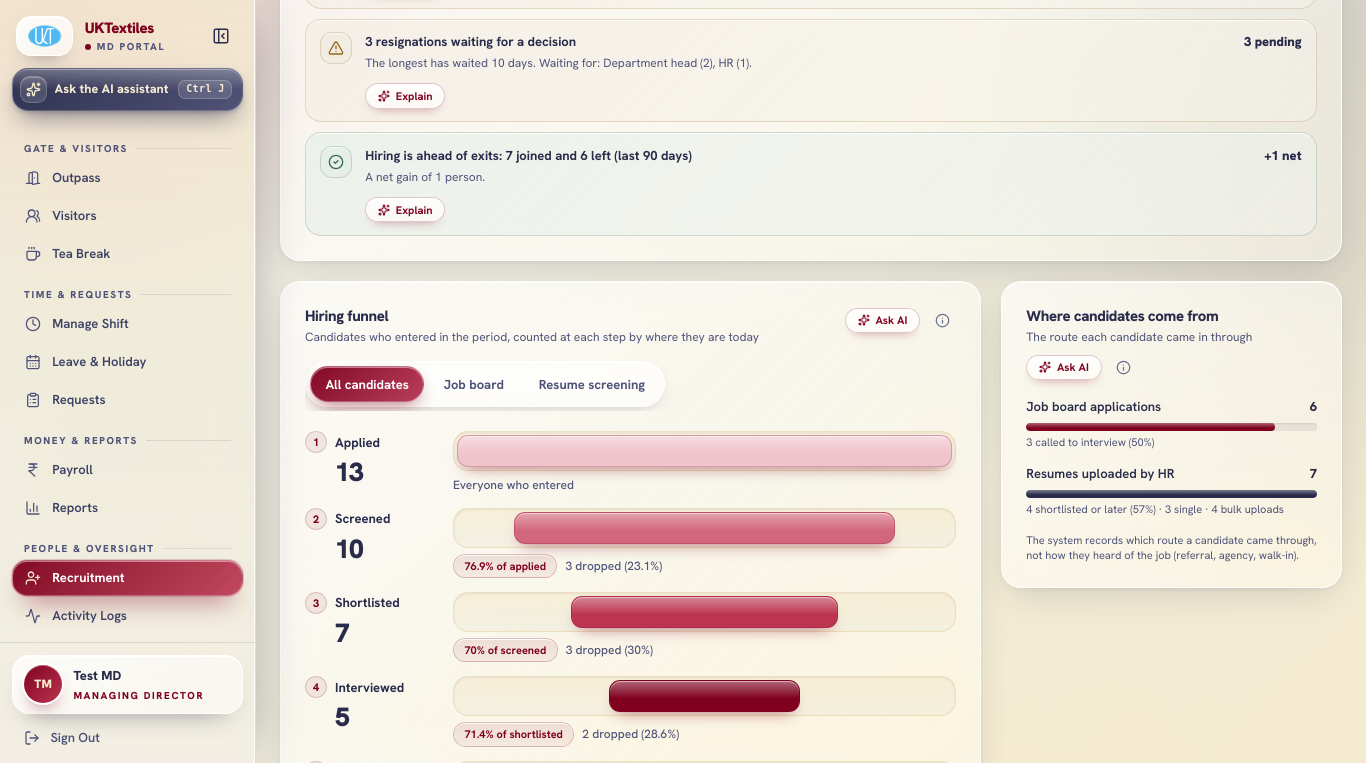
Test case: the Recruitment page › switches the funnel to one pipeline and says what that pipeline cannot answer
(page scrolled)
Click the tab "Job board". click: [474, 384]
box: [428,366,519,402]
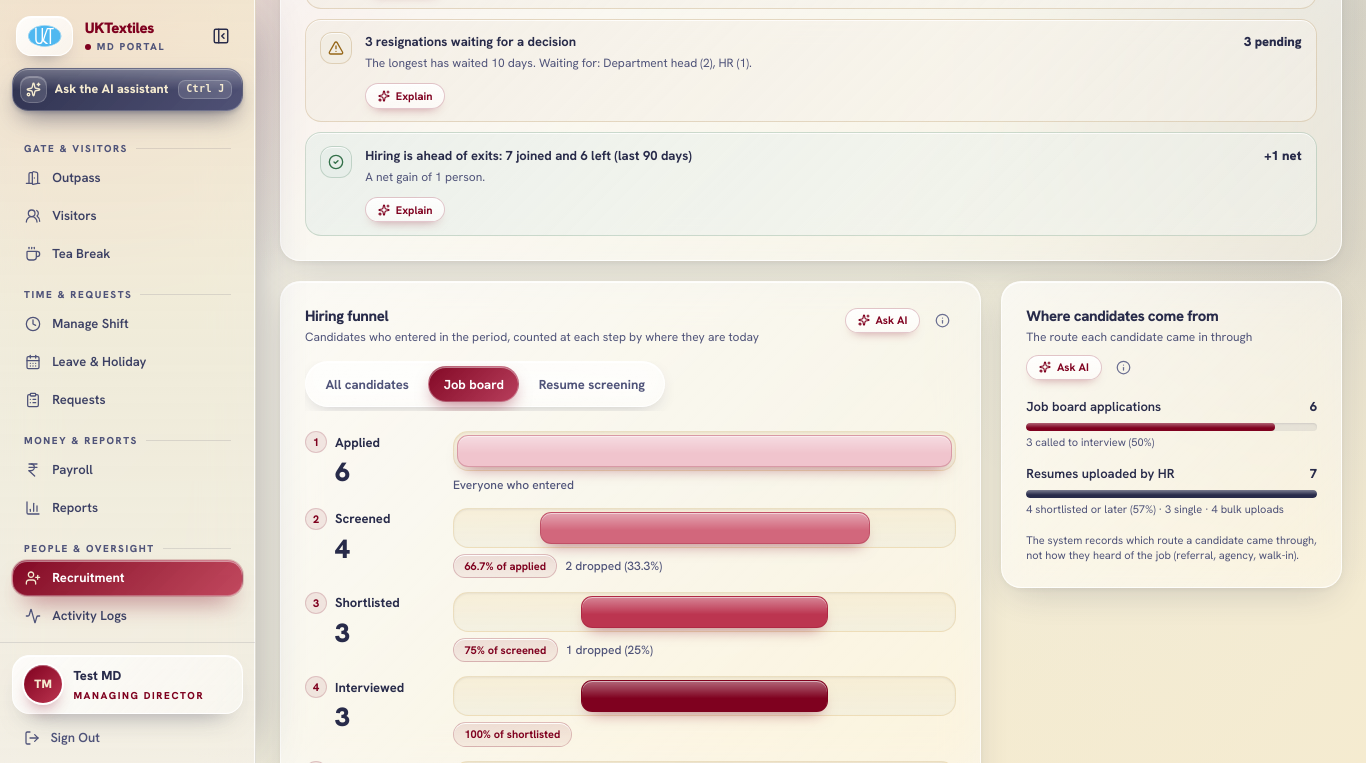
Click the tab "Resume screening". click: [592, 384]
box: [523,366,660,402]
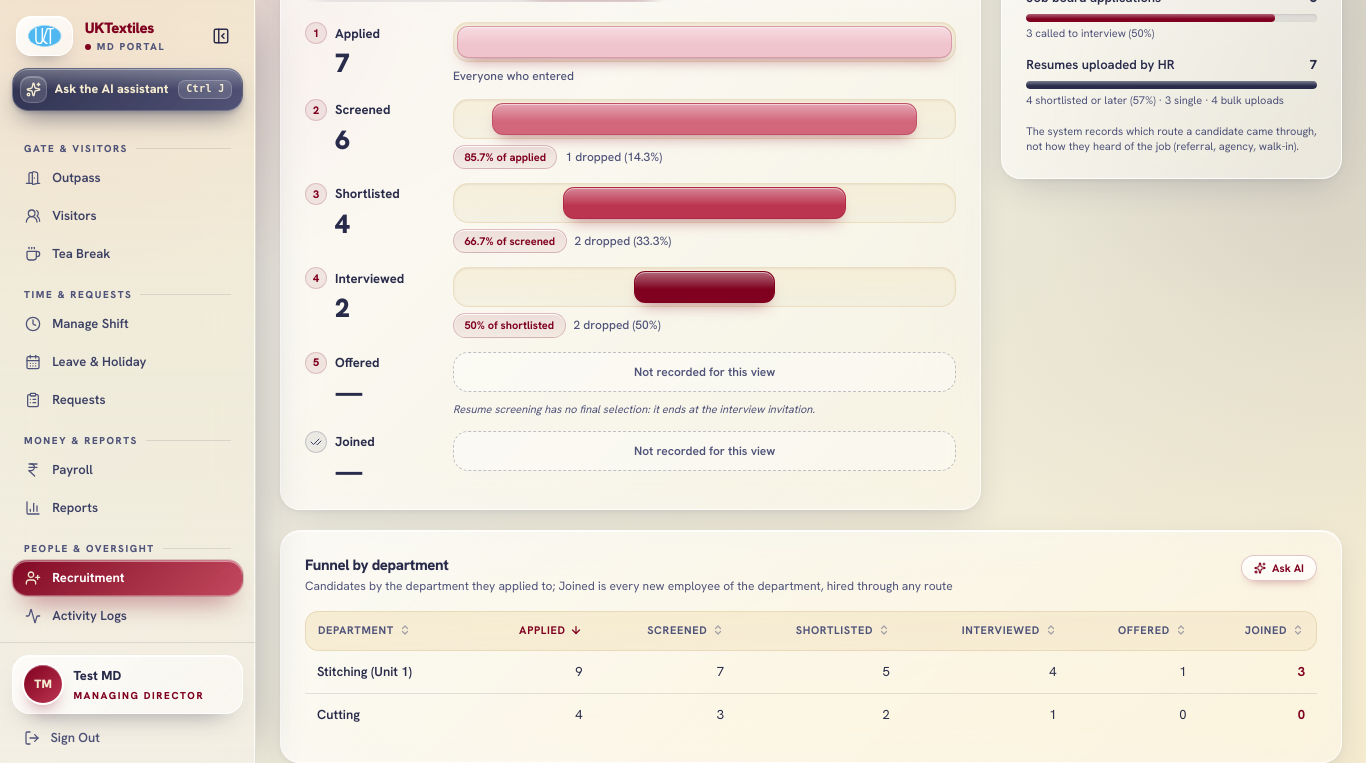
Result: the list item with test id "funnel-step-offered" shows "Not recorded for this view" at [634,364,775,380]
Result: the list item with test id "funnel-step-offered" shows "no final selection" at [453,402,815,416]
